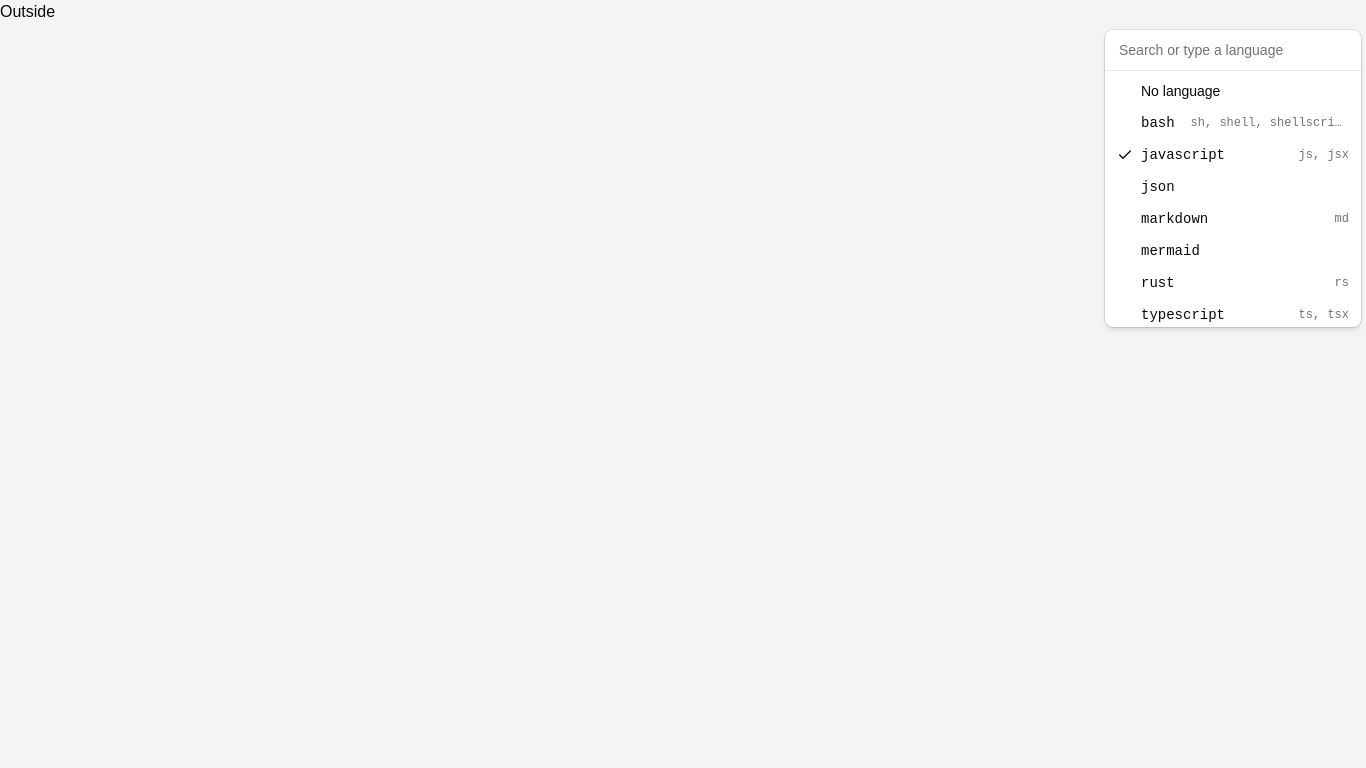
Test: EditorCodeBlockLanguagePicker › drops the clearing row once a search narrows the list
The image size is (1366, 768).
Type "n" into the dropdown named "Search languages" at (1233, 50), box [1109,34,1357,66]
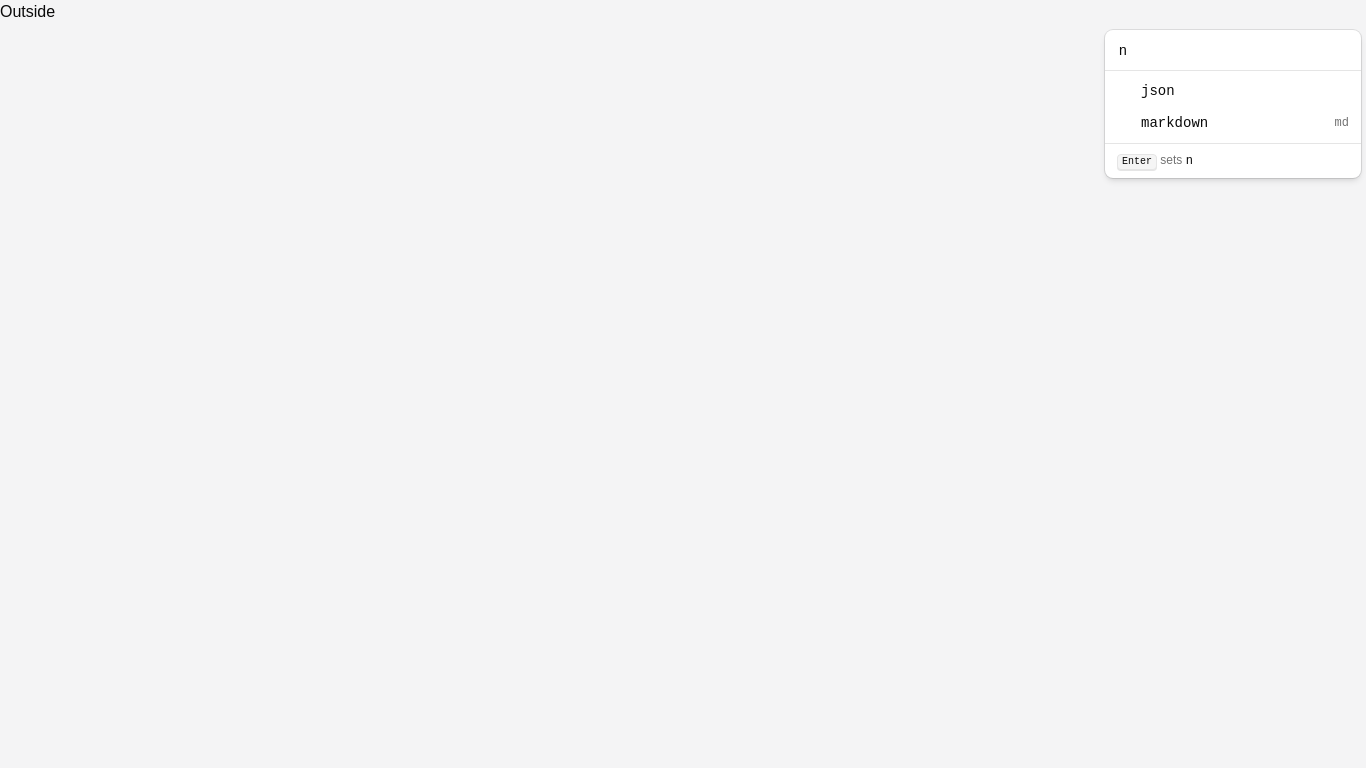
Check: the option "No language" is gone
